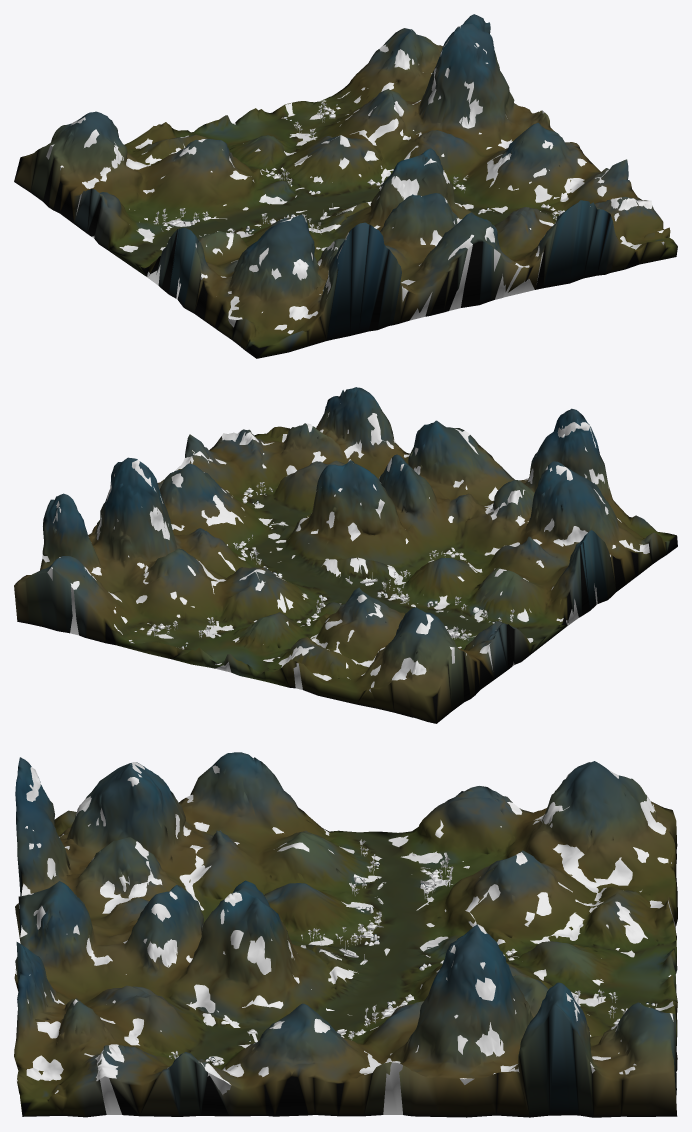
The model's file is TheVastLand.fbx.
3 views of the same model, one above another, from view 1: azimuth 30°, elevation 25°; view 2: azimuth 150°, elevation 25°; view 3: azimuth 270°, elevation 25° (orthographic). The views are drawn at different scales.
Parts seen in each view (by area): view 1: MainMeshOtuline, MainMesh, MainMeshBounds, SmallObjects; view 2: MainMeshOtuline, MainMesh, SmallObjects, MainMeshBounds; view 3: MainMeshOtuline, MainMesh, SmallObjects, MainMeshBounds.
Boxes of the visible parts, x1,y1,x2,y2 form: MainMeshOtuline: (14, 14, 677, 358); MainMesh: (51, 25, 663, 333); MainMeshBounds: (46, 145, 664, 327); SmallObjects: (153, 101, 564, 243); MainMeshOtuline: (14, 387, 677, 723); MainMesh: (42, 403, 648, 687); SmallObjects: (134, 482, 514, 648); MainMeshBounds: (47, 544, 649, 692); MainMeshOtuline: (14, 752, 677, 1117); MainMesh: (15, 759, 673, 1093); SmallObjects: (169, 839, 655, 1065); MainMeshBounds: (18, 862, 675, 1114).
Size of what is drawn, in the model's own units: 1346 by 358 by 1322.
